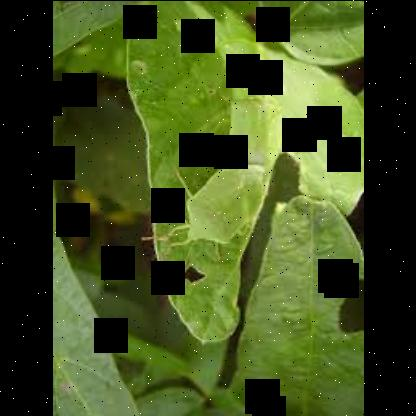agujero: (331, 274, 361, 336), (177, 260, 209, 286)
